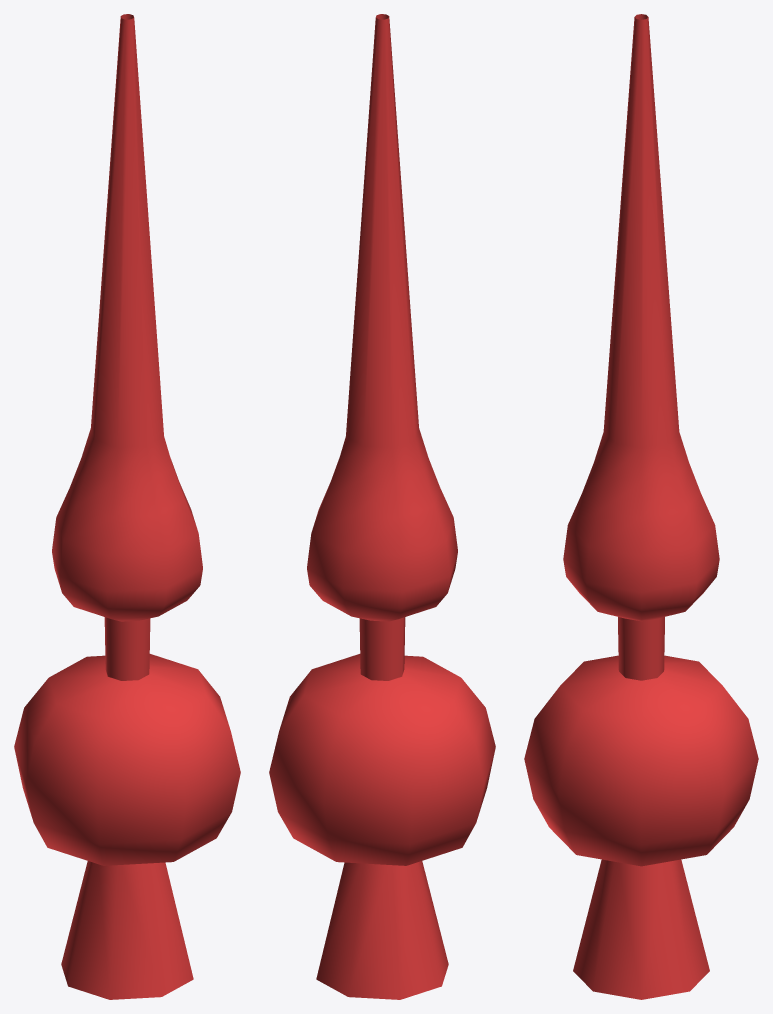
The model's file is Topper3.fbx.
The picture shows the model from 3 angles, left to right: view 1: azimuth 30°, elevation 25°; view 2: azimuth 150°, elevation 25°; view 3: azimuth 270°, elevation 25°; orthographic projection.
Parts seen in each view (by area): view 1: TopperToy3; view 2: TopperToy3; view 3: TopperToy3.
Part boxes in pixels (bbox=[...]): TopperToy3: bbox=[14, 14, 240, 999]; TopperToy3: bbox=[269, 14, 495, 999]; TopperToy3: bbox=[524, 14, 758, 999].
Bounding box in the file's own units: 27.64 × 126 × 27.64.
